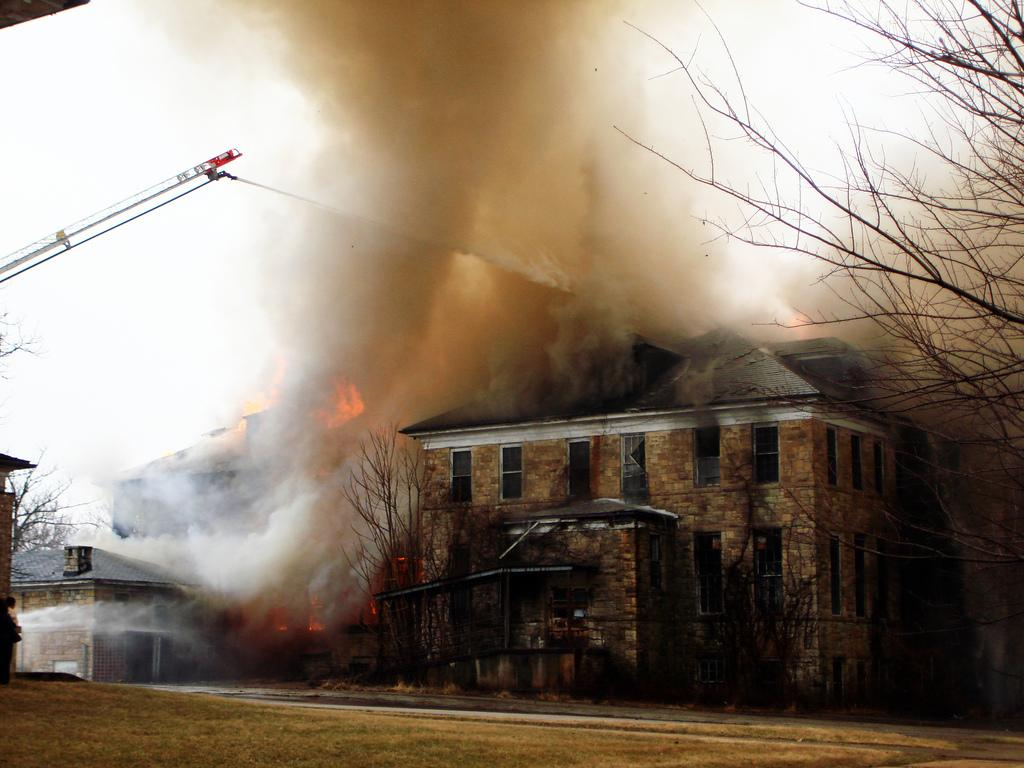fire: (320, 372, 388, 432)
smoke: (328, 30, 654, 222), (12, 42, 244, 150)
